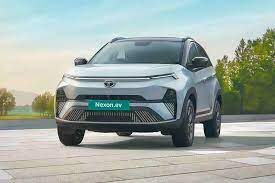Tata Nexon: (50, 32, 226, 156)
